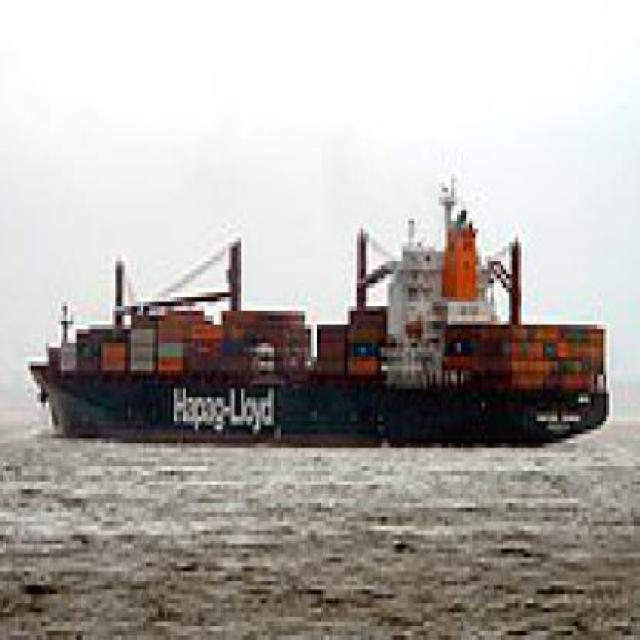container: (19, 166, 617, 463)
